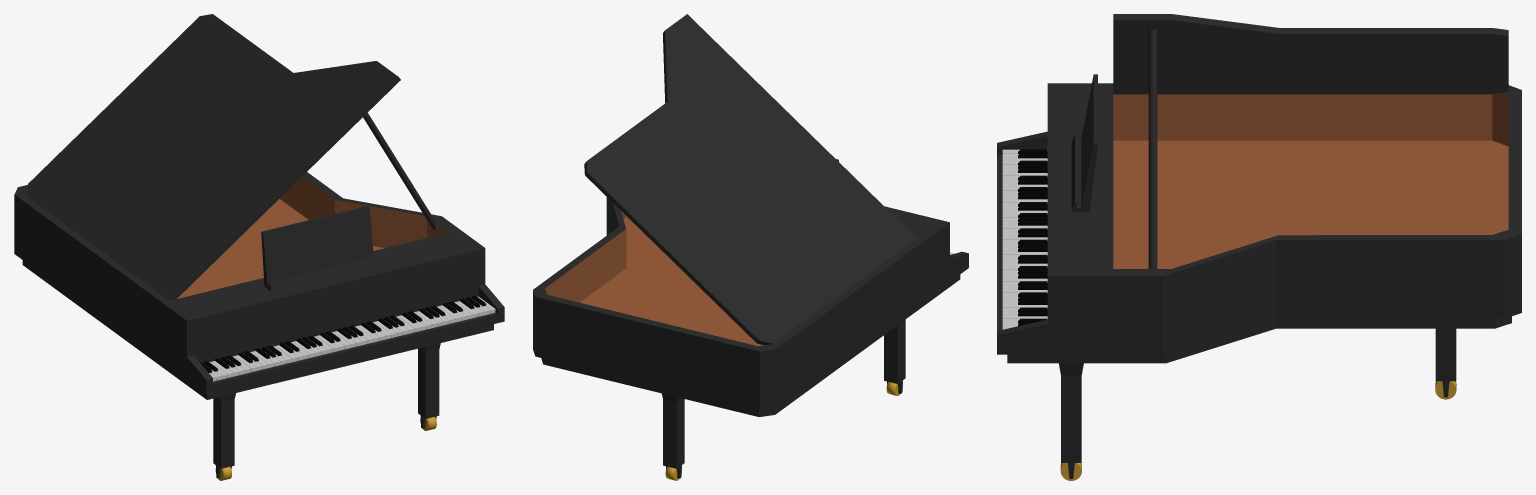
The model's file is piano.glb.
3 views of the same model, side by side, from view 1: azimuth 30°, elevation 25°; view 2: azimuth 150°, elevation 25°; view 3: azimuth 270°, elevation 25° (orthographic). The views are drawn at different scales.
Visible parts, largest first — view 1: Cube.002_Cube.006; view 2: Cube.002_Cube.006; view 3: Cube.002_Cube.006.
Boxes of the visible parts, x1,y1,x2,y2 form: Cube.002_Cube.006: (14, 14, 504, 480); Cube.002_Cube.006: (533, 14, 968, 480); Cube.002_Cube.006: (997, 14, 1521, 480).
Size of the model in its own units: 2 by 2.21 by 2.3.
